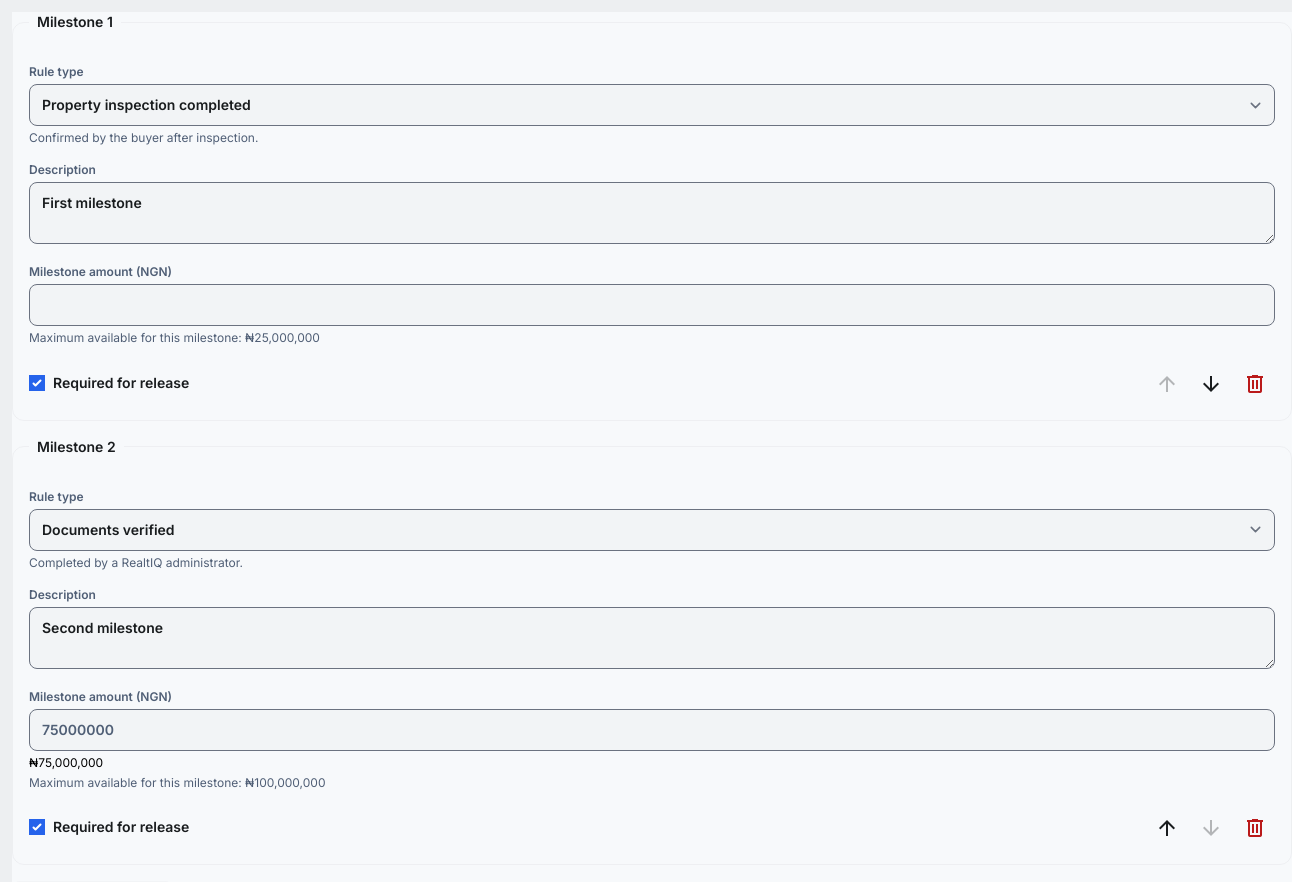
CustomRuleEditor › retains an NGN amount as a numeric value while showing formatted currency
In the number field labelled "Milestone amount (NGN)": point(652, 305) [29,284,1275,326], type "25000000"
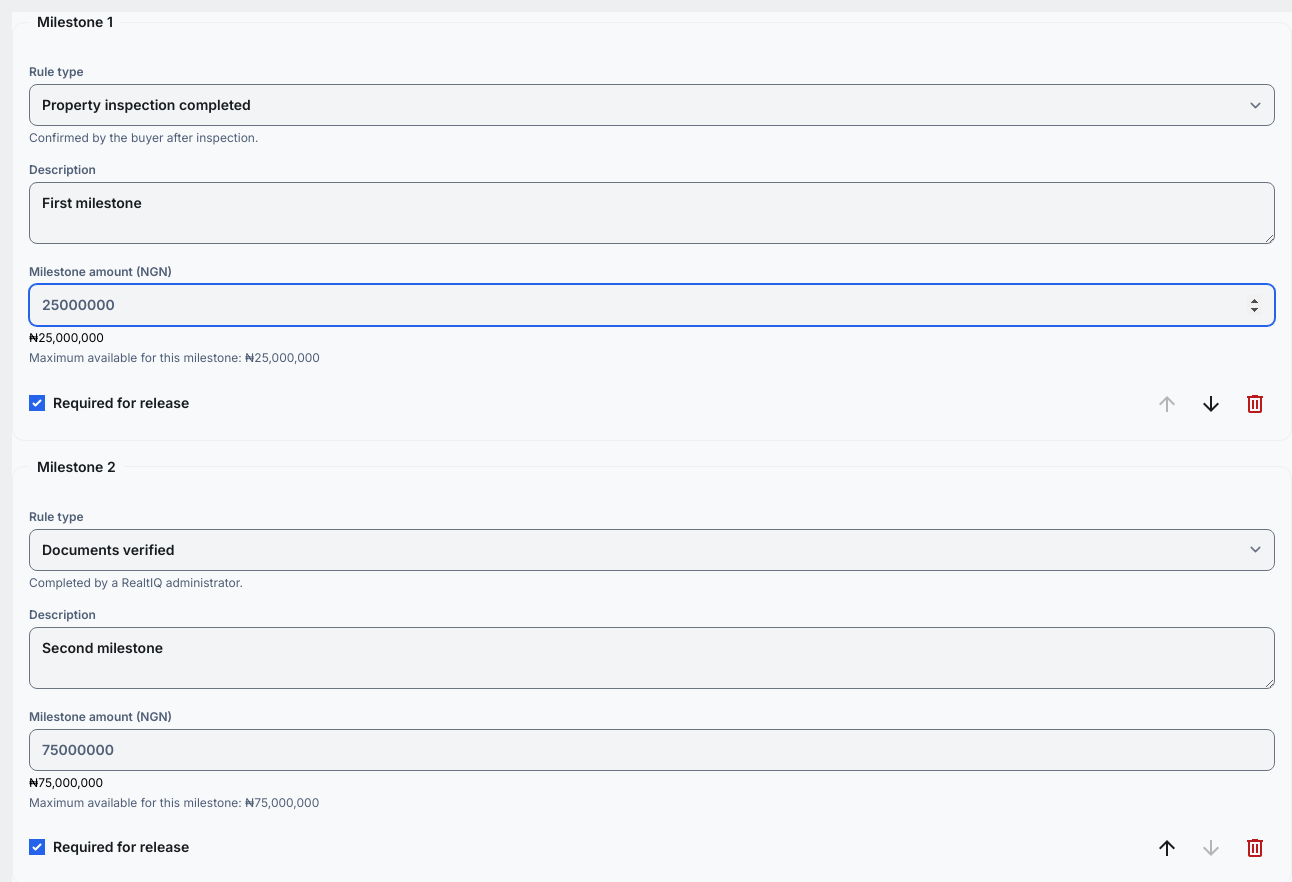
Check: the text "₦25,000,000" is shown, box [29,330,104,345]
